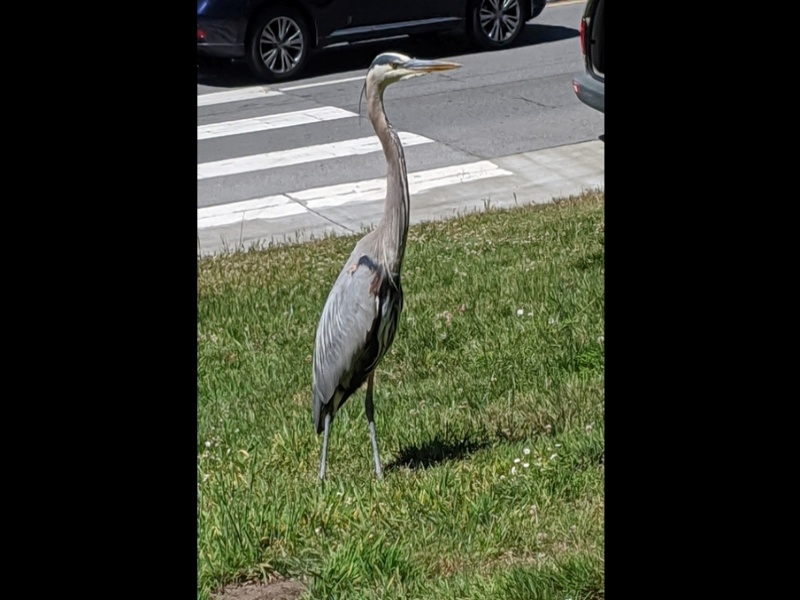heron: (304, 51, 474, 495)
